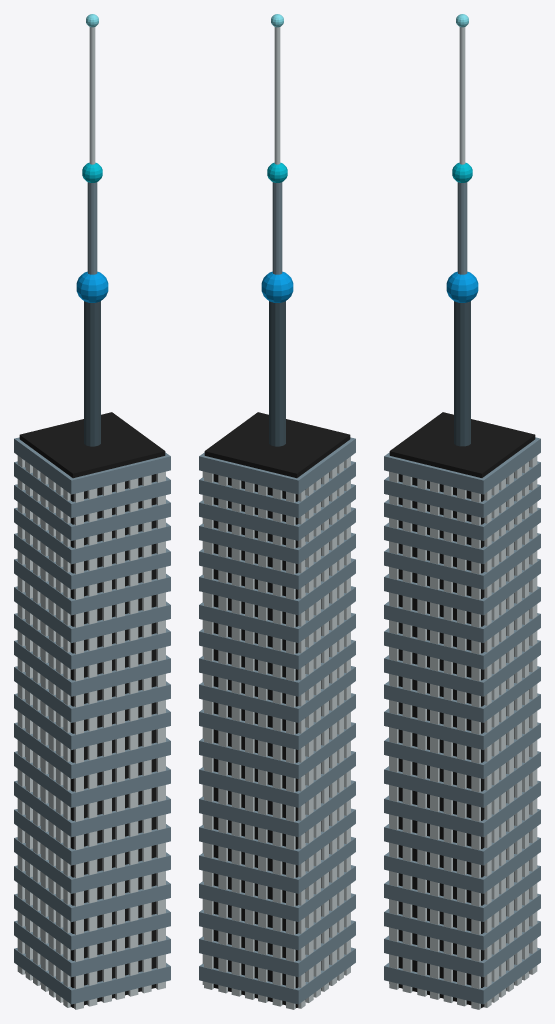
File: building_skyscraper.obj
3 renders of one model, left to right at view 1: azimuth 30°, elevation 25°; view 2: azimuth 150°, elevation 25°; view 3: azimuth 330°, elevation 25°, orthographic.
Parts seen in each view (by area): view 1: mesh1129531034, mesh628771503, mesh786391286, mesh995811462, mesh405104420, mesh1880491408, mesh637855987, mesh295113415, mesh228472437, mesh1366606680, mesh1467815216, mesh916421317 (+27 smaller); view 2: mesh1129531034, mesh628771503, mesh786391286, mesh995811462, mesh1880491408, mesh405104420, mesh637855987, mesh295113415, mesh228472437, mesh1366606680, mesh1467815216, mesh691692921 (+27 smaller); view 3: mesh1129531034, mesh786391286, mesh995811462, mesh228472437, mesh628771503, mesh1880491408, mesh295113415, mesh637855987, mesh405104420, mesh1395058858, mesh1935001013, mesh290633929 (+27 smaller).
Part boxes in pixels (bbox=[...]): mesh1129531034: bbox=[19, 412, 165, 1007]; mesh628771503: bbox=[128, 478, 138, 996]; mesh786391286: bbox=[87, 488, 97, 1006]; mesh995811462: bbox=[14, 437, 170, 494]; mesh405104420: bbox=[114, 481, 124, 999]; mesh1880491408: bbox=[141, 475, 151, 993]; mesh637855987: bbox=[74, 491, 83, 1009]; mesh295113415: bbox=[156, 471, 165, 989]; mesh228472437: bbox=[101, 485, 111, 1002]; mesh1366606680: bbox=[14, 507, 170, 564]; mesh1467815216: bbox=[14, 461, 170, 517]; mesh916421317: bbox=[14, 865, 170, 921]; mesh1129531034: bbox=[204, 412, 350, 1007]; mesh628771503: bbox=[231, 478, 241, 996]; mesh786391286: bbox=[272, 488, 282, 1006]; mesh995811462: bbox=[199, 437, 355, 494]; mesh1880491408: bbox=[218, 475, 228, 993]; mesh405104420: bbox=[245, 481, 255, 999]; mesh637855987: bbox=[286, 491, 295, 1009]; mesh295113415: bbox=[204, 471, 213, 989]; mesh228472437: bbox=[258, 485, 268, 1002]; mesh1366606680: bbox=[199, 507, 355, 564]; mesh1467815216: bbox=[199, 461, 355, 517]; mesh691692921: bbox=[199, 693, 355, 749]; mesh1129531034: bbox=[389, 412, 535, 1007]; mesh786391286: bbox=[402, 475, 412, 992]; mesh995811462: bbox=[384, 437, 540, 494]; mesh228472437: bbox=[417, 478, 427, 996]; mesh628771503: bbox=[443, 485, 453, 1002]; mesh1880491408: bbox=[457, 488, 467, 1006]; mesh295113415: bbox=[471, 491, 481, 1009]; mesh637855987: bbox=[389, 471, 399, 989]; mesh405104420: bbox=[430, 481, 440, 999]; mesh1395058858: bbox=[384, 893, 540, 950]; mesh1935001013: bbox=[384, 586, 540, 642]; mesh290633929: bbox=[384, 722, 540, 778].
Size of the model in its own units: 0.591 by 5.47 by 0.5894.
